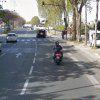Car: (4, 32, 18, 42)
